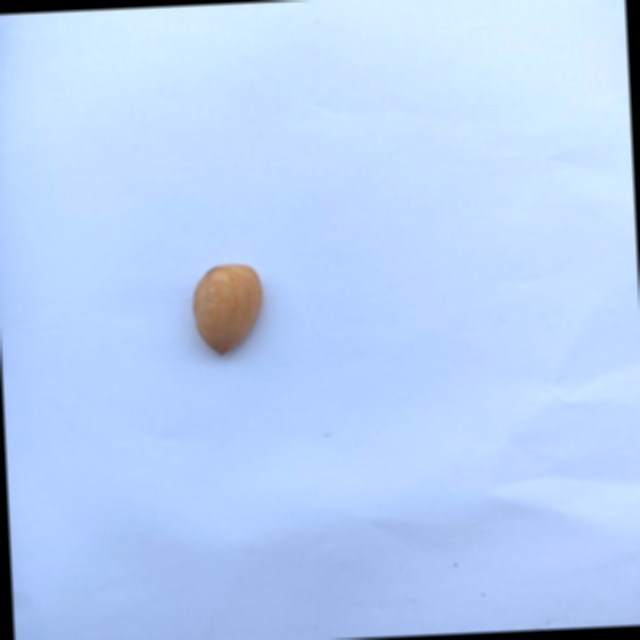grade2: (188, 259, 272, 359)
